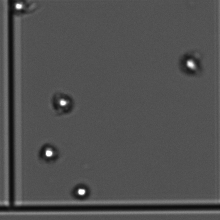Living Cell: (177, 50, 203, 77), (9, 1, 37, 24), (36, 141, 61, 166), (50, 88, 75, 110), (69, 179, 91, 201)
